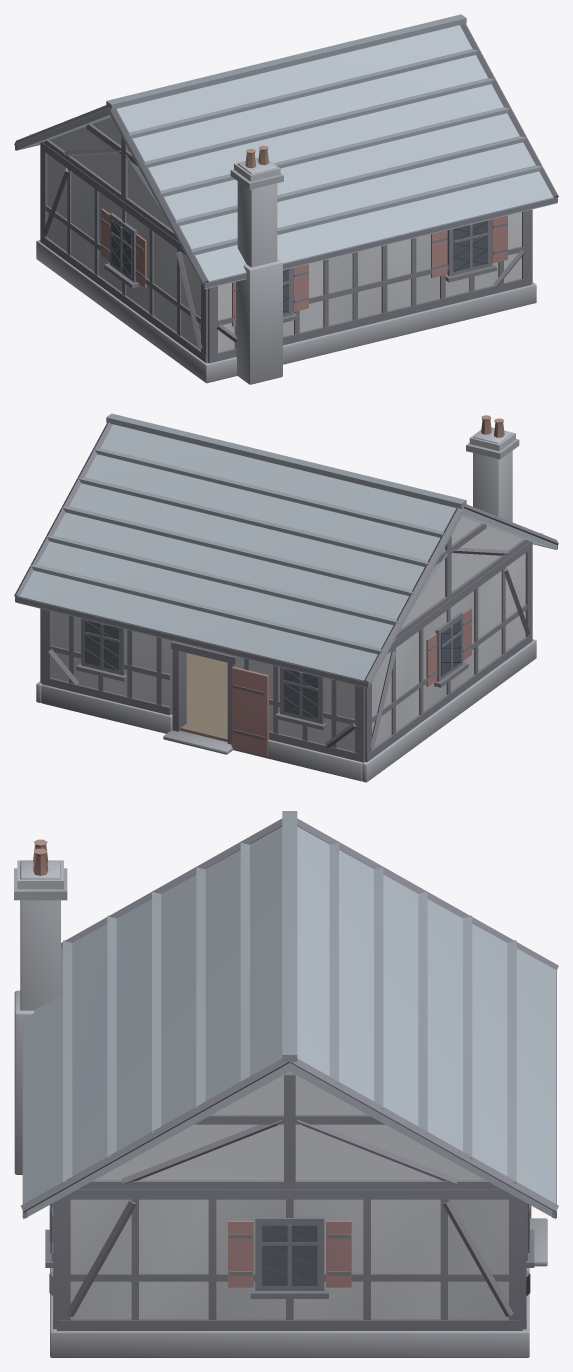
File: open_house_frost.gltf
The picture shows the model from 3 angles, top to bottom: view 1: azimuth 30°, elevation 25°; view 2: azimuth 150°, elevation 25°; view 3: azimuth 270°, elevation 25°; orthographic projection. The views are drawn at different scales.
Parts seen in each view (by area): view 1: Body; view 2: Body; view 3: Body.
Part boxes in pixels (x1,y1,x2,y2): Body: (14, 14, 558, 384); Body: (14, 413, 558, 782); Body: (14, 811, 558, 1357).
Size of the model in its own units: 9.97 by 6.04 by 9.4.
